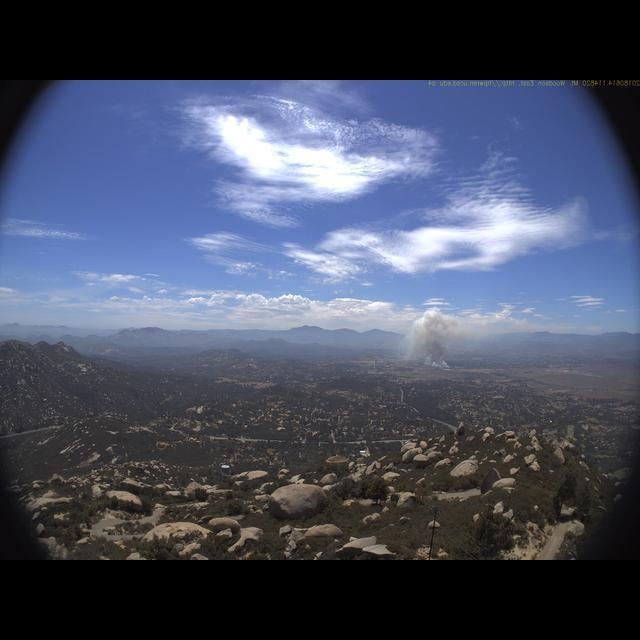Smoke: (398, 306, 469, 372)
